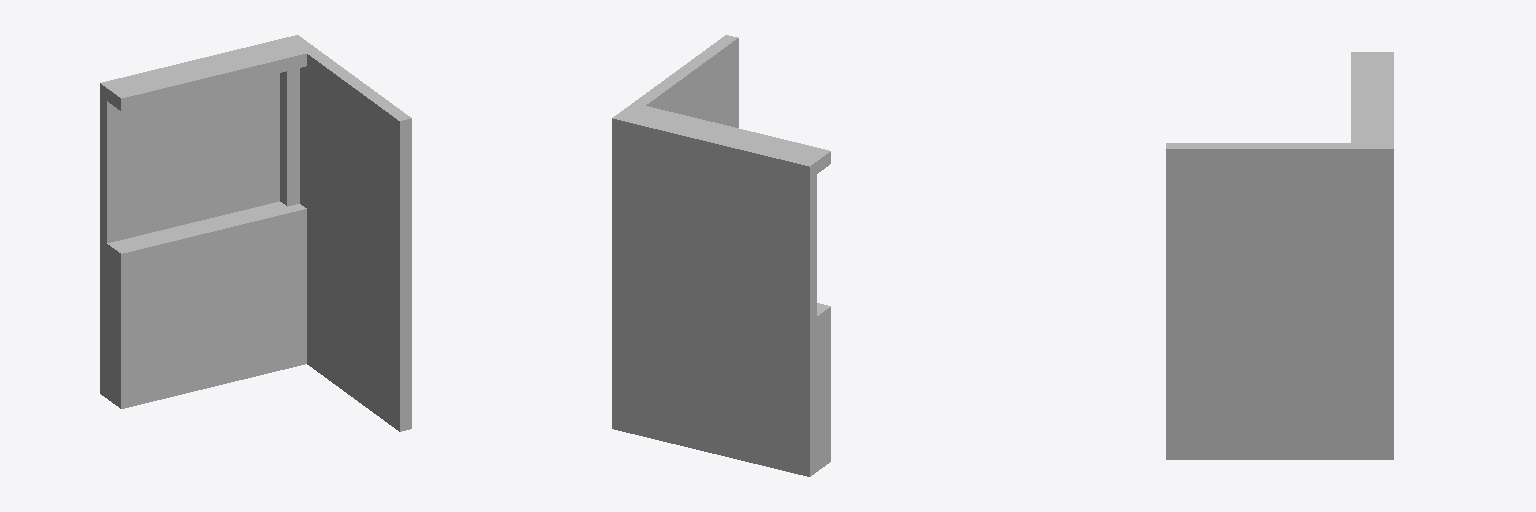
File: 3D Voxel Office Pack-127.obj
The picture shows the model from 3 angles: view 1: azimuth 30°, elevation 25°; view 2: azimuth 150°, elevation 25°; view 3: azimuth 270°, elevation 25°; orthographic projection.
Parts seen in each view (by area): view 1: object 1; view 2: object 1; view 3: object 1.
Boxes of the visible parts, box(x1,y1,x2,y2) form: object 1: box(100, 35, 411, 431); object 1: box(612, 35, 830, 476); object 1: box(1166, 52, 1393, 459).
Size of the model in its own units: 1.6 by 2.4 by 1.6.